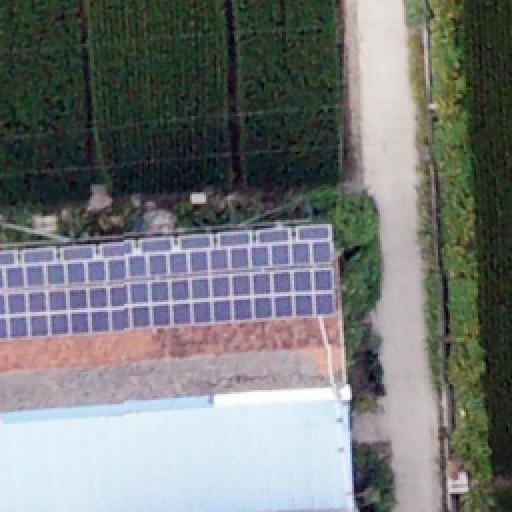solar-panel: (0, 224, 336, 336)
